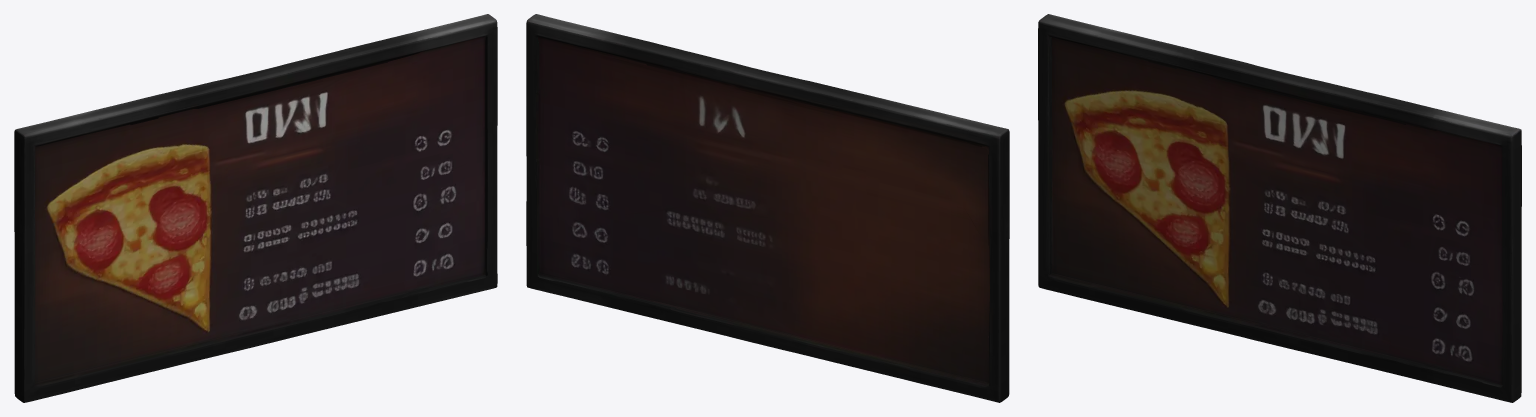
The picture shows the model from 3 angles, left to right: view 1: azimuth 30°, elevation 25°; view 2: azimuth 150°, elevation 25°; view 3: azimuth 330°, elevation 25°; orthographic projection.
Visible parts, largest first — view 1: geometry_0; view 2: geometry_0; view 3: geometry_0.
Boxes of the visible parts, box(x1,y1,x2,y2) form: geometry_0: box(14, 14, 497, 402); geometry_0: box(526, 14, 1009, 402); geometry_0: box(1038, 14, 1521, 402).
Bounding box in the file's own units: 1 × 0.5422 × 0.039.
Materials: 1 (1 with a texture image).
